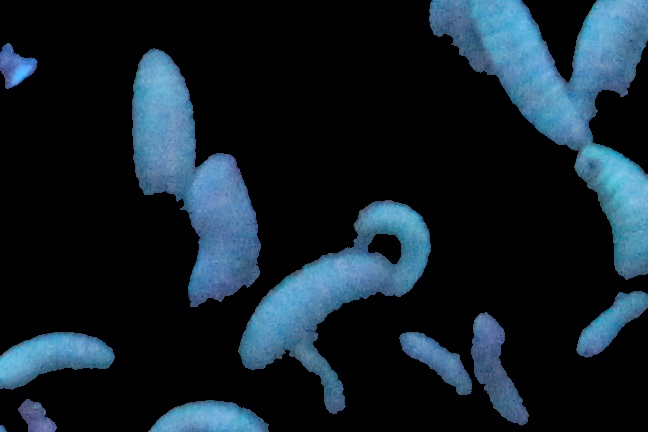larvae: (248, 240, 401, 370), (466, 1, 584, 144), (185, 155, 267, 325), (130, 49, 197, 225), (566, 145, 648, 287), (570, 2, 648, 123), (356, 197, 434, 299), (1, 325, 116, 391), (144, 395, 276, 432)
